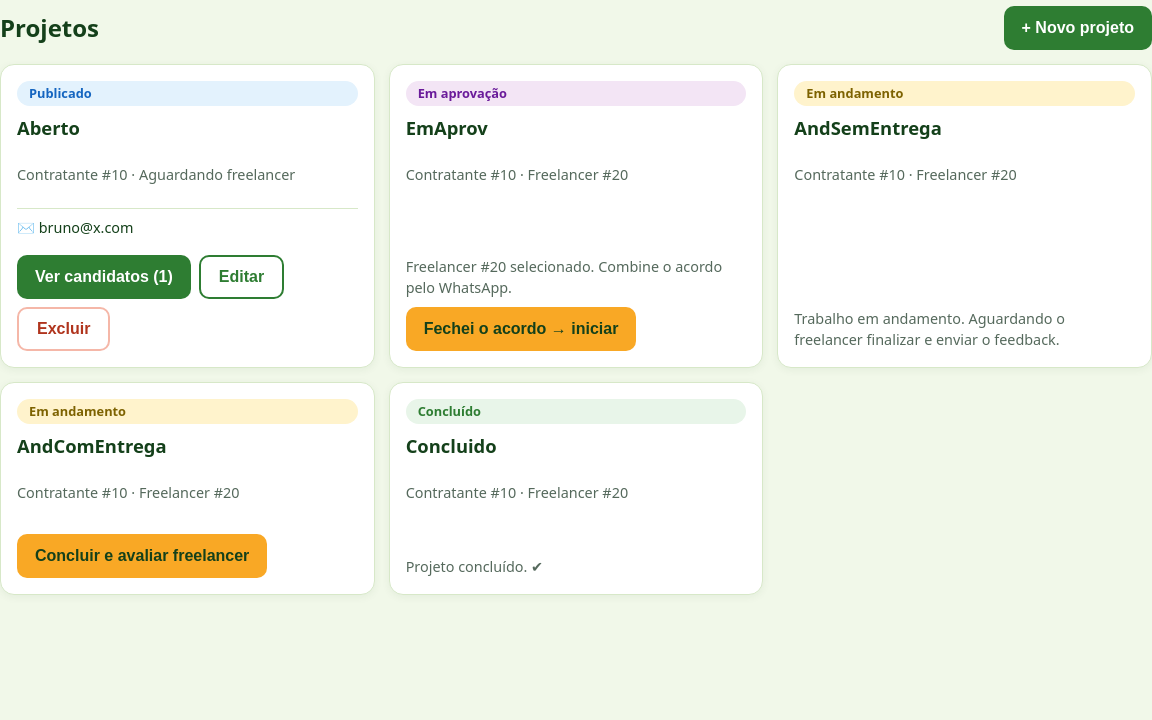
it: @interface Projetos — contratante › abre e fecha os modais (novo, editar, candidatos) pelo X
expect the heading "Aberto" is shown: met, box [17,115,80,140]
Click the button with test id "novo-projeto" at (1078, 28), box [1004,6,1151,50]
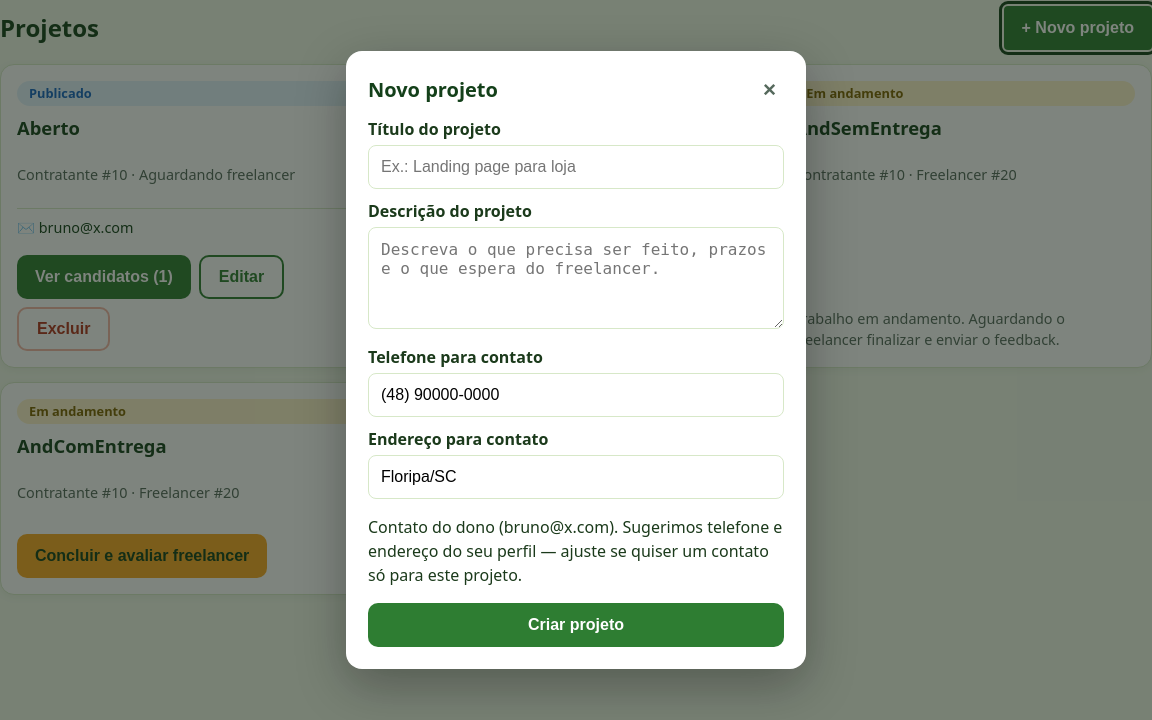
Click the button with test id "modal-fechar" at (769, 90), box [755,73,784,107]
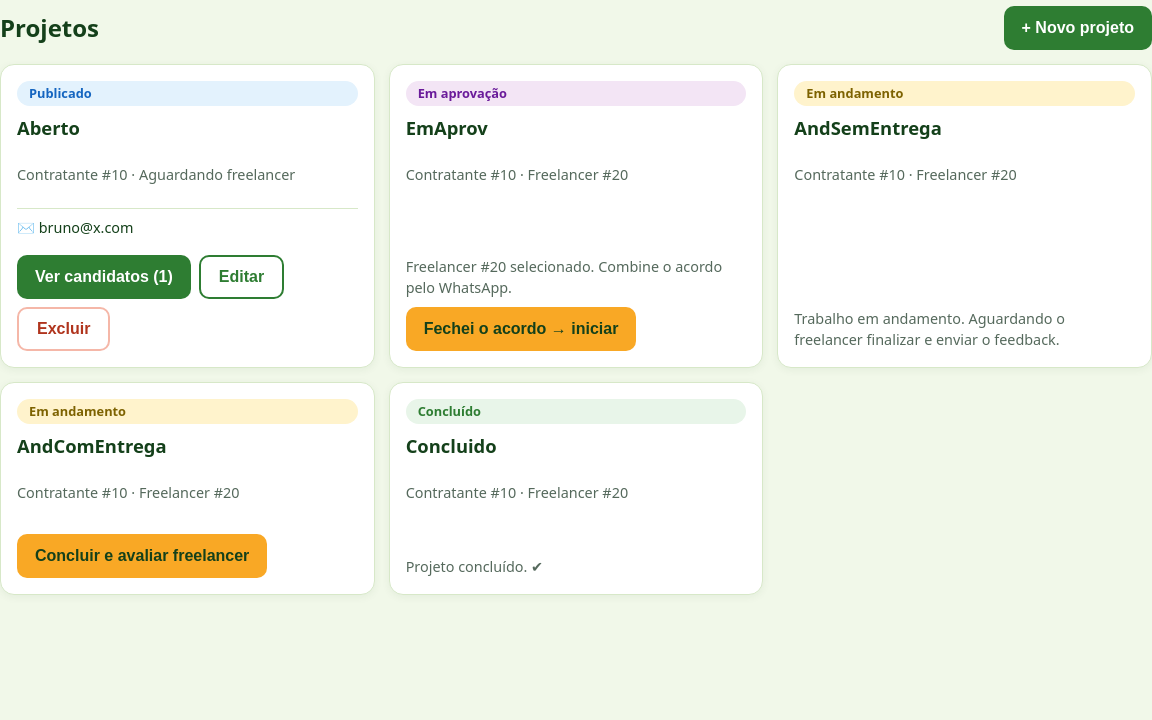
expect the dialog with test id "modal" is gone: met
Click the button with test id "editar-projeto" at (241, 277), box [199,255,284,299]
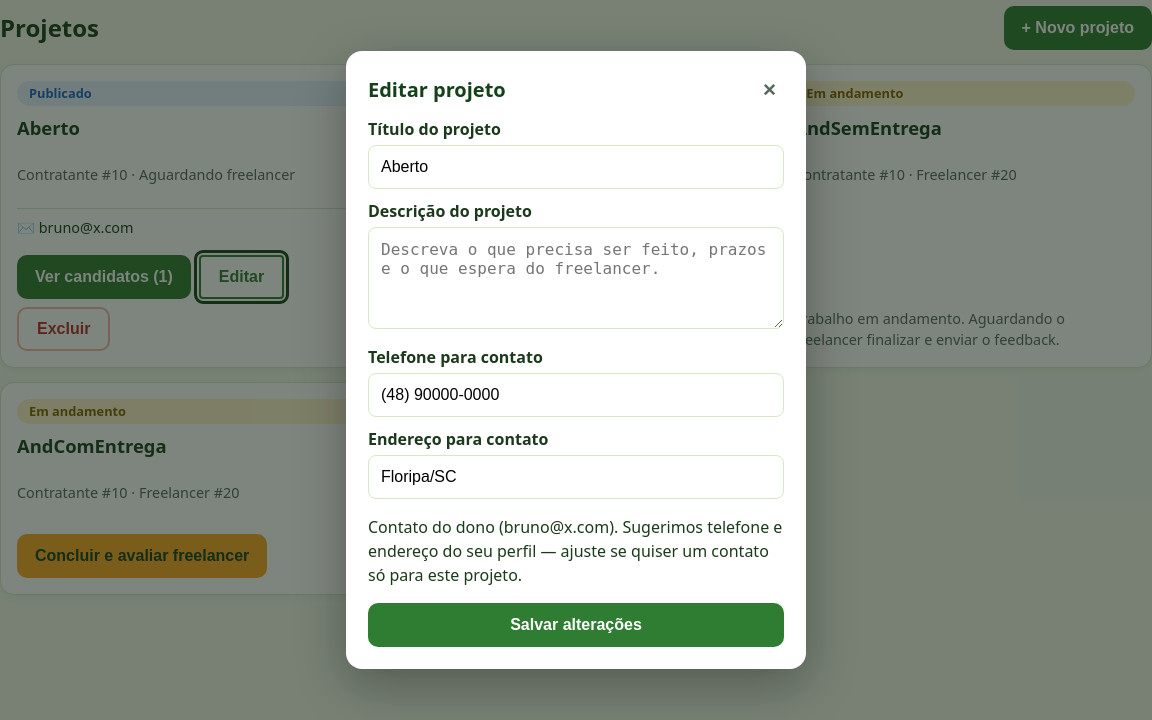
Click the button with test id "modal-fechar" at (769, 90), box [755,73,784,107]
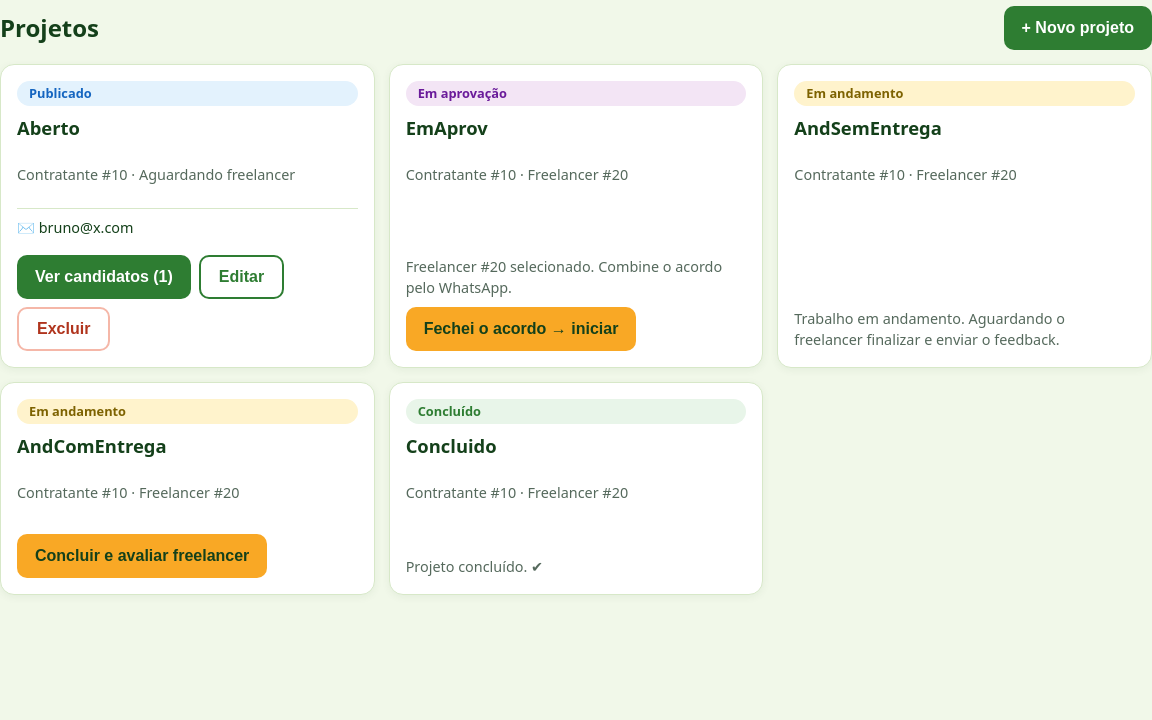
expect the dialog with test id "modal" is gone: met
Click the button with test id "ver-candidatos" at (104, 277), box [17,255,191,299]
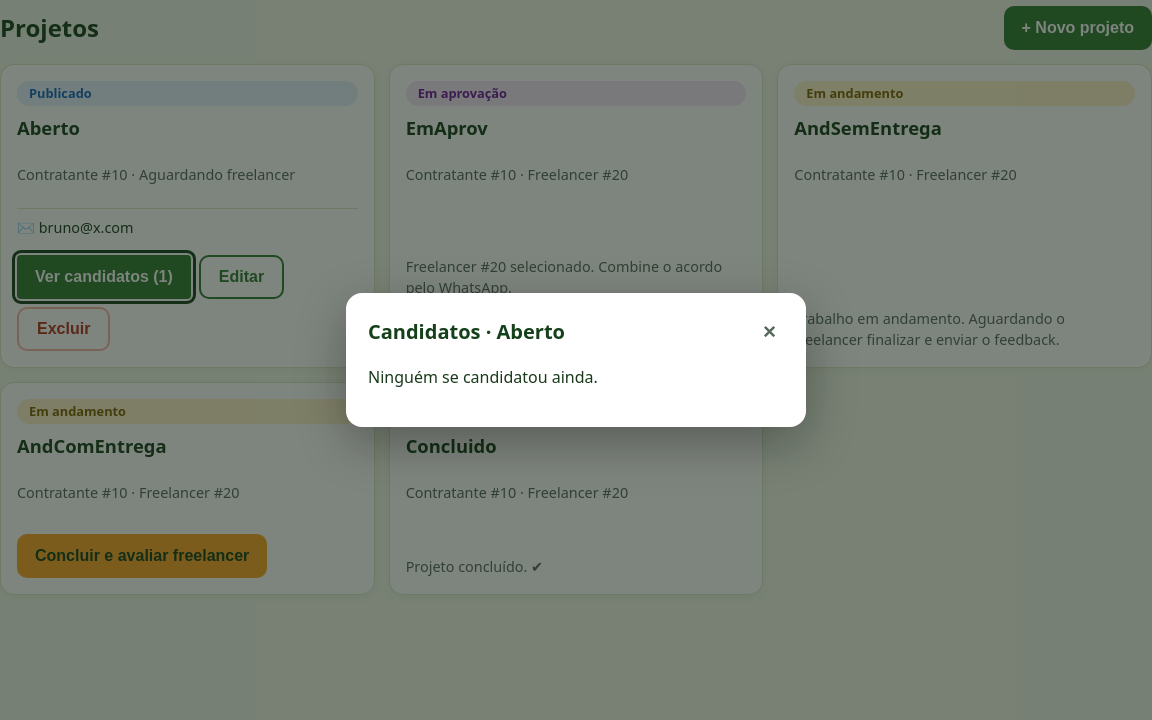
expect the text "Ninguém se candidatou ainda." is shown: met, box [368,366,598,388]
Click the button with test id "modal-fechar" at (769, 332), box [755,315,784,349]
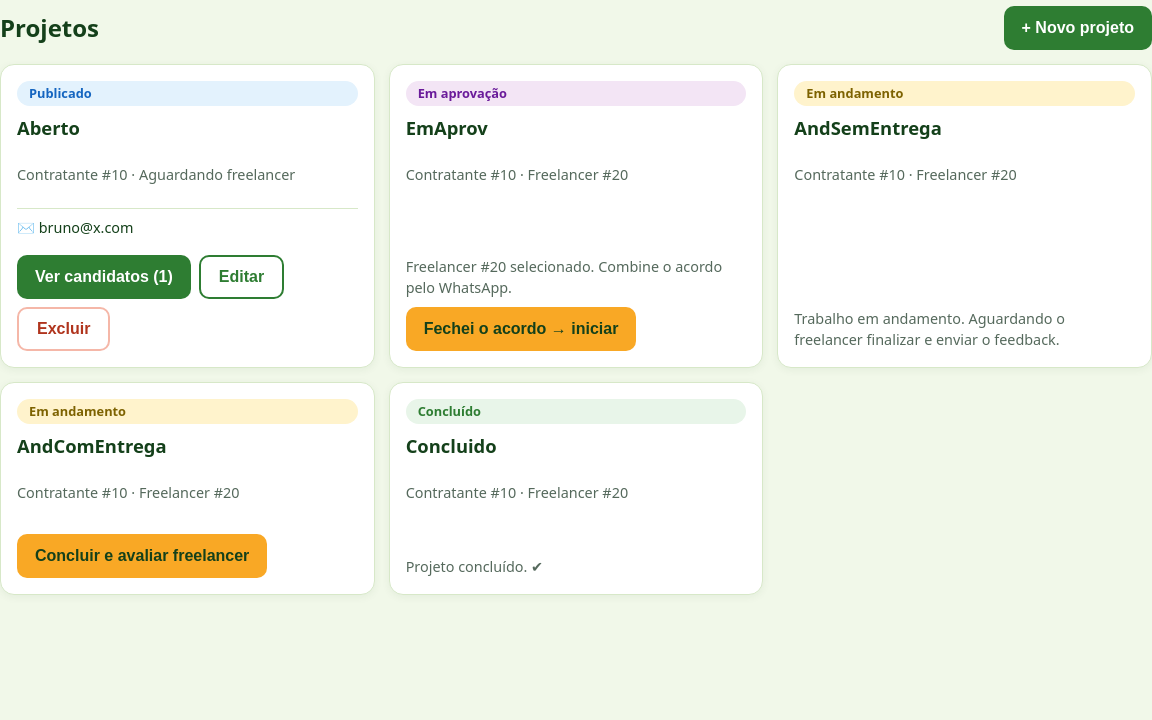
expect the dialog with test id "modal" is gone: met
